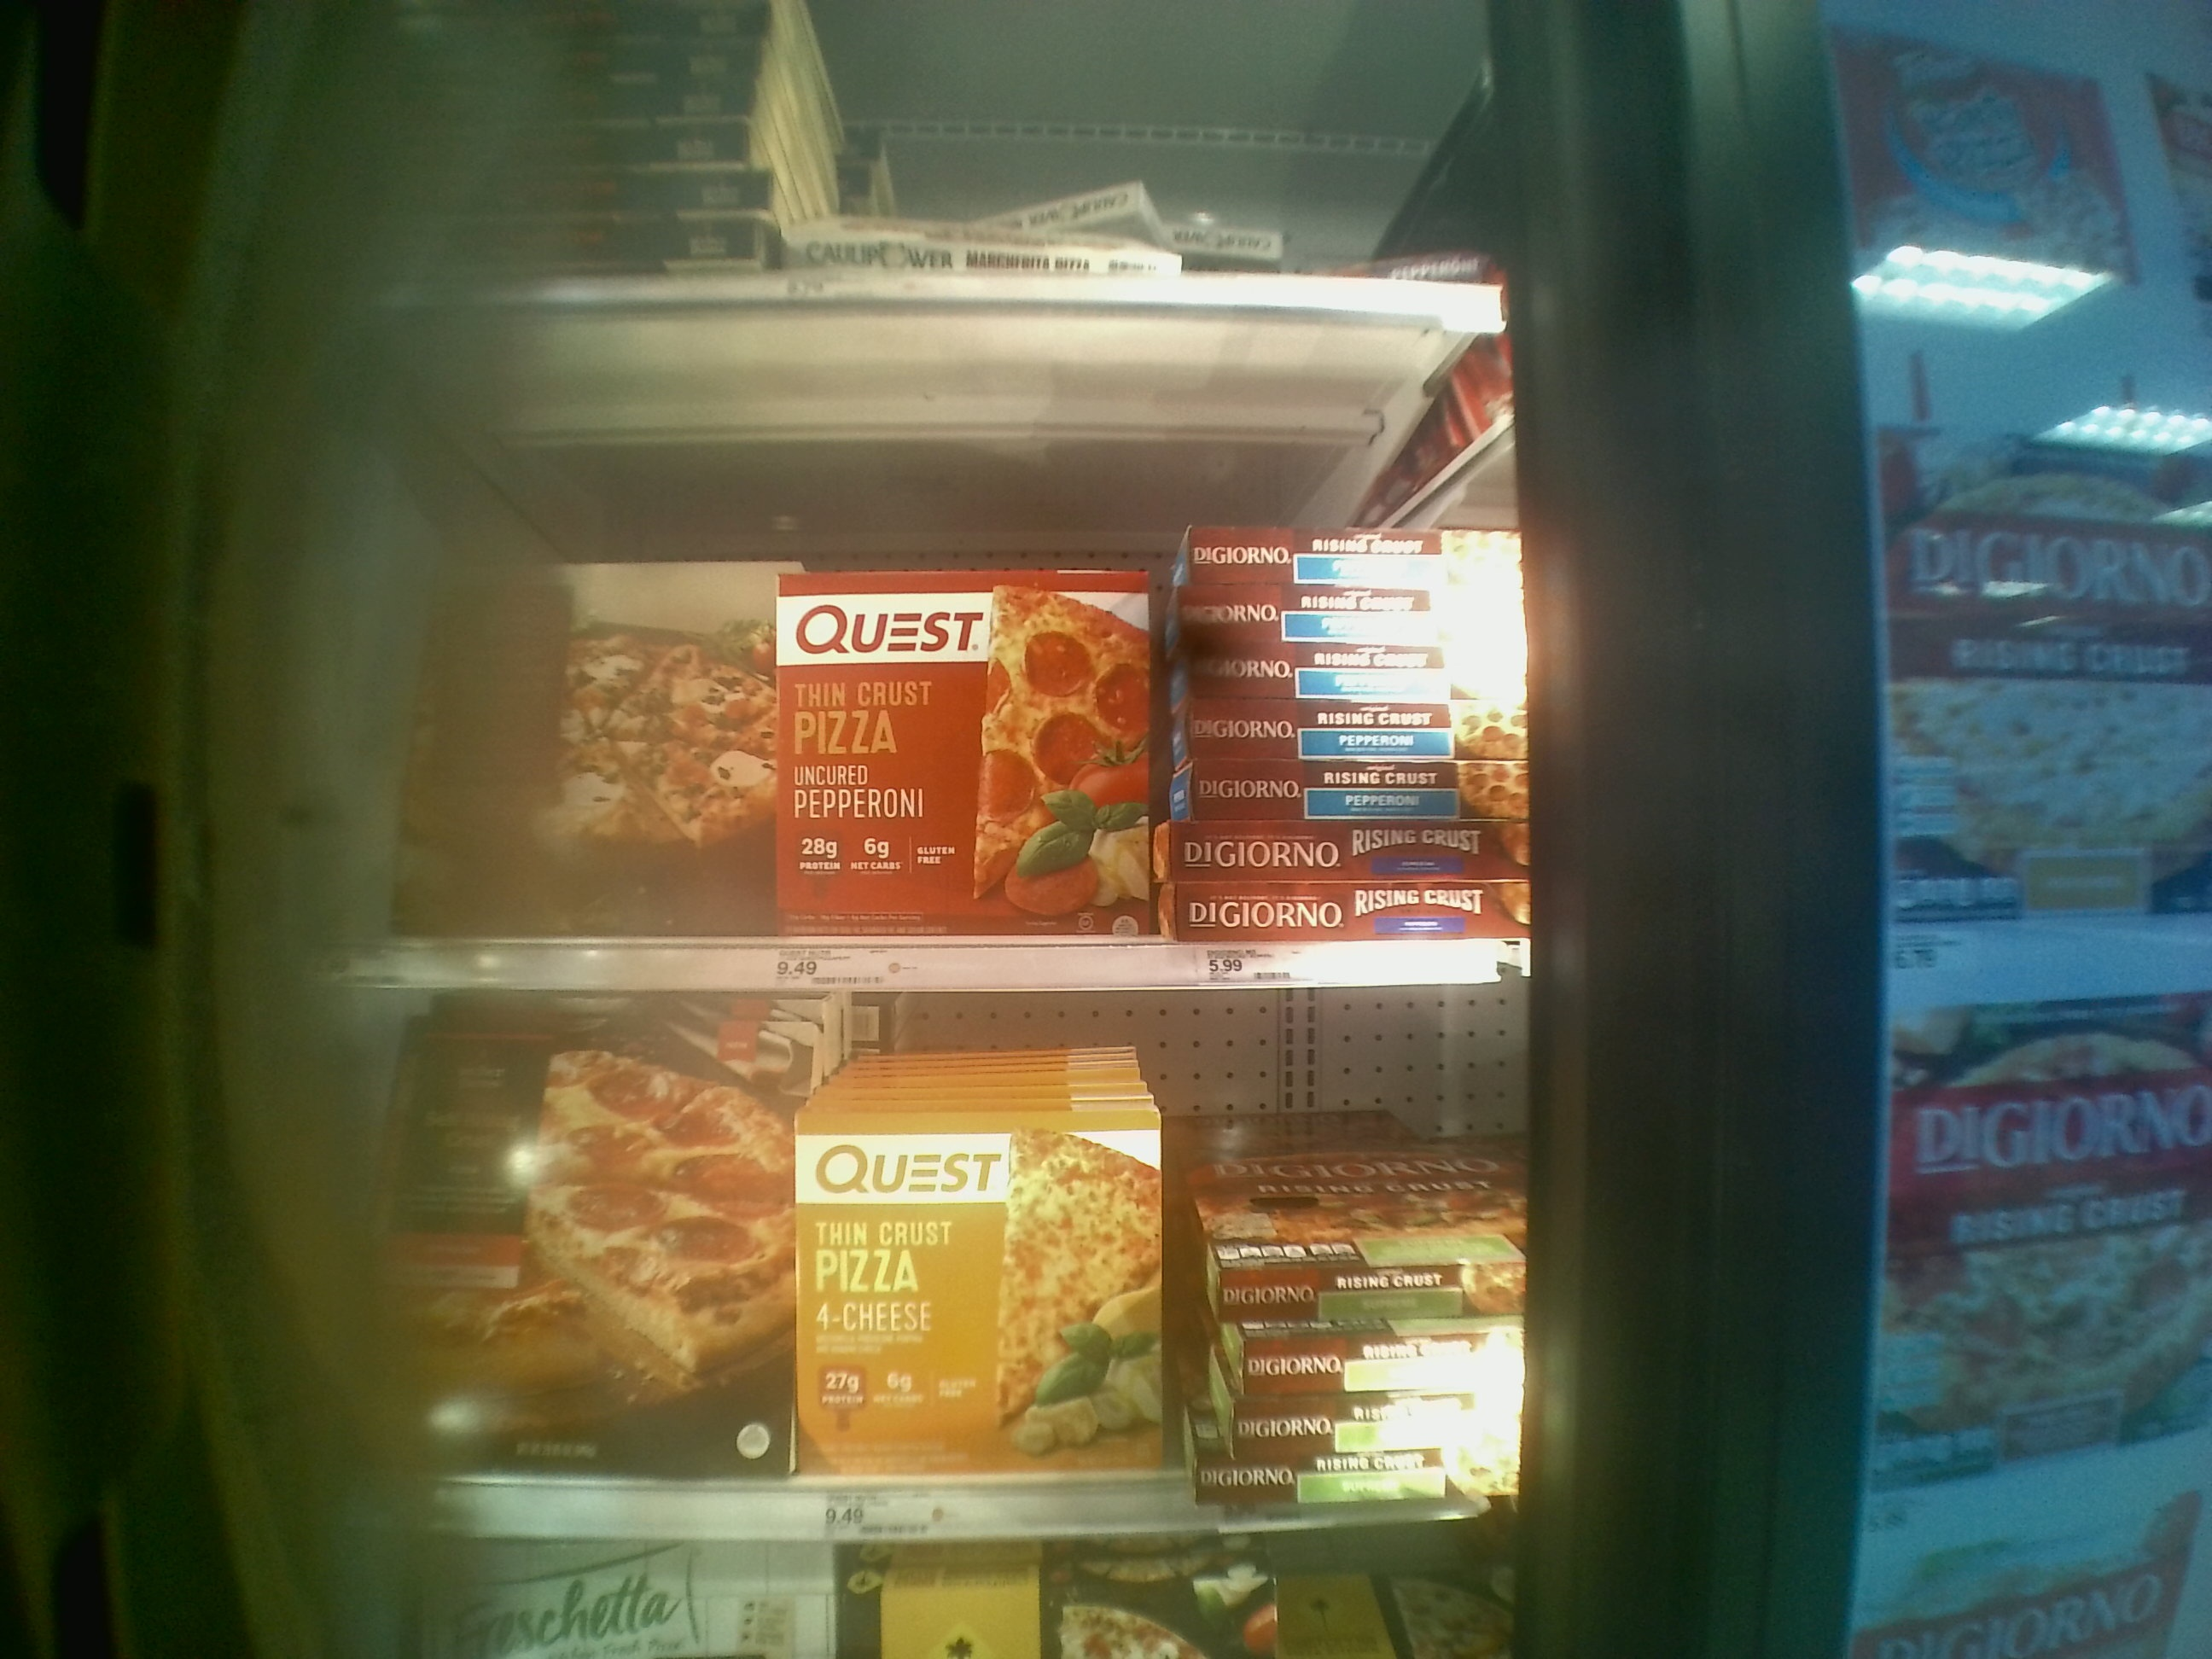shelf: (326, 295, 1529, 978), (329, 972, 1526, 1537)
